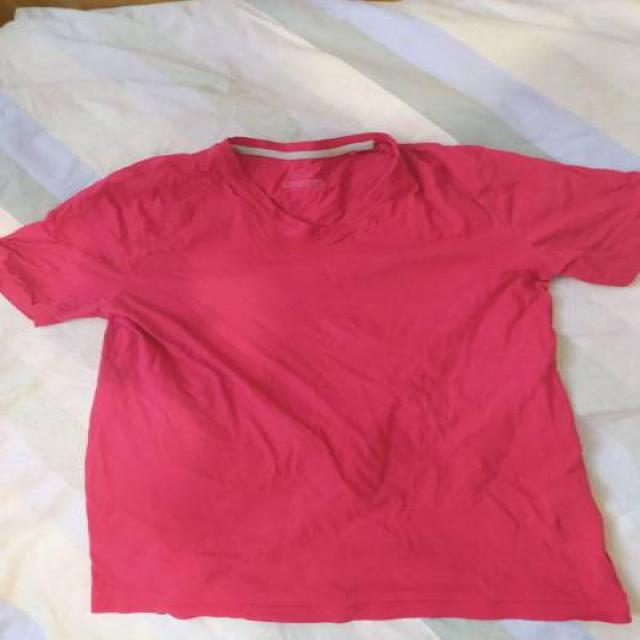Clothes -Biodegradable-: (0, 135, 640, 625)
